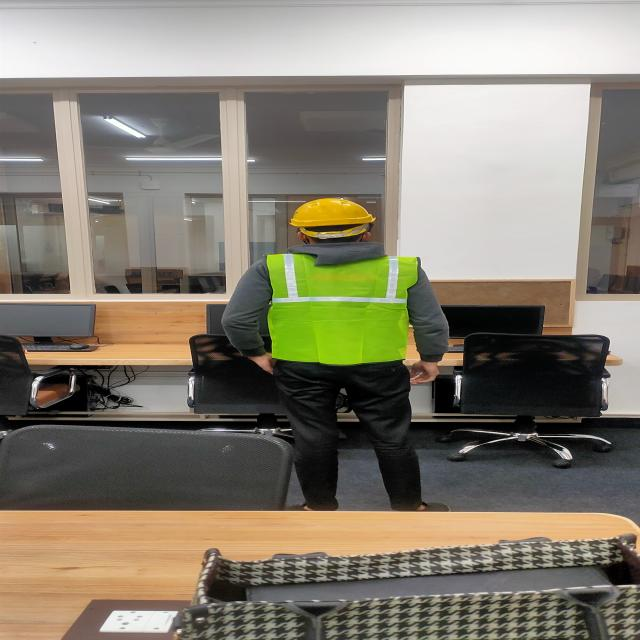safe: (224, 198, 439, 508)
